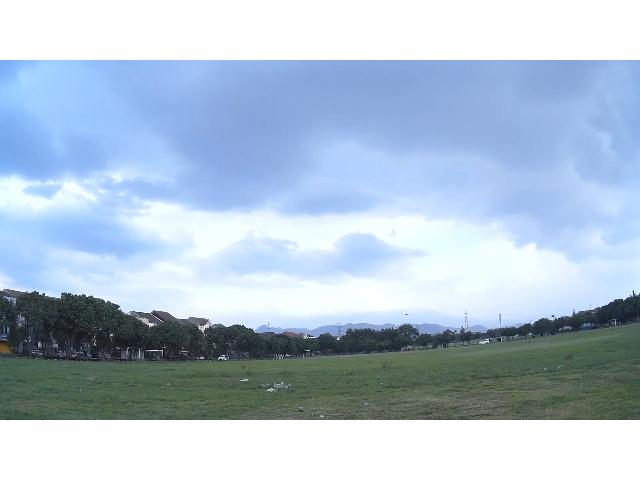Anti-Drone: (390, 306, 422, 322)
